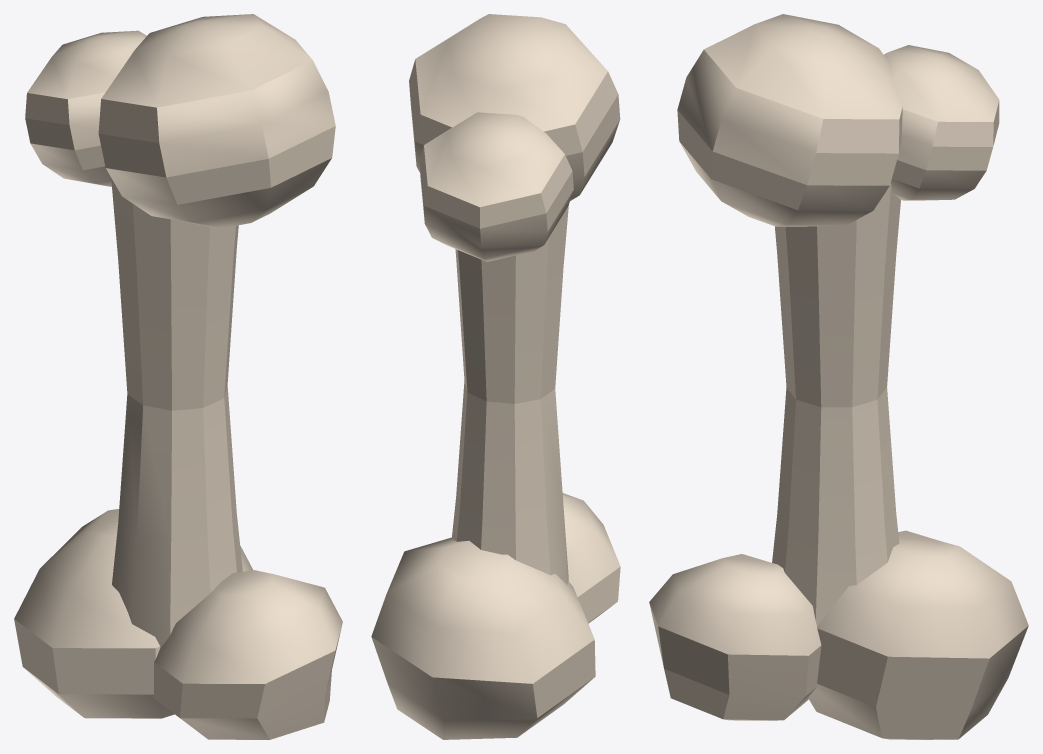
Rendered from osso 2.fbx.
The picture shows the model from 3 angles, left to right: view 1: azimuth 30°, elevation 25°; view 2: azimuth 150°, elevation 25°; view 3: azimuth 270°, elevation 25°; orthographic projection. The views are drawn at different scales.
Visible parts, largest first — view 1: Cylinder; view 2: Cylinder; view 3: Cylinder.
Boxes of the visible parts, bbox=[...] form: Cylinder: bbox=[14, 14, 342, 739]; Cylinder: bbox=[371, 14, 620, 739]; Cylinder: bbox=[649, 14, 1028, 739].
Size of the model in its own units: 238 by 702 by 341.
